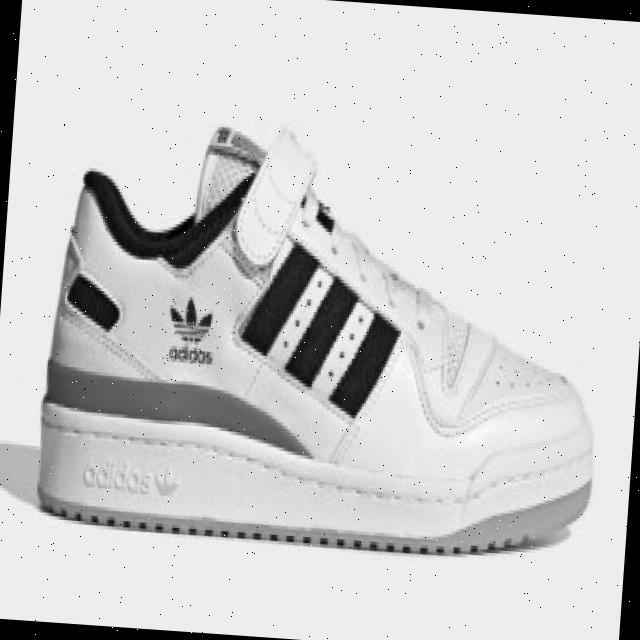Adidas: (159, 290, 223, 369)
